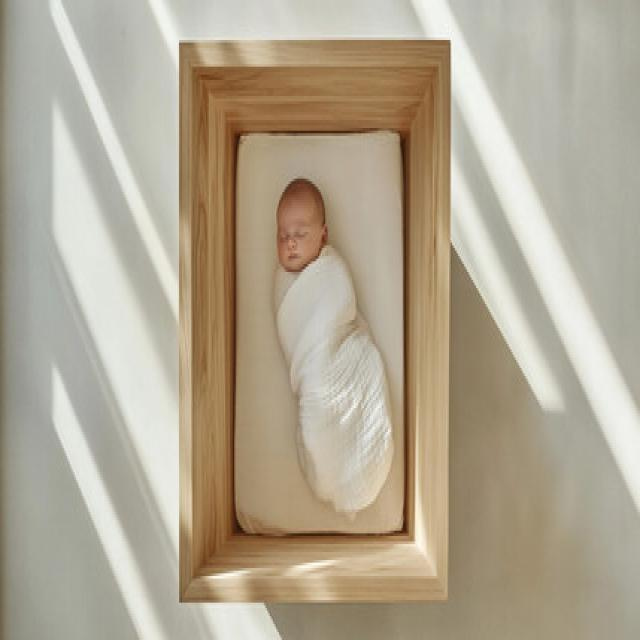crib: (176, 37, 452, 603)
